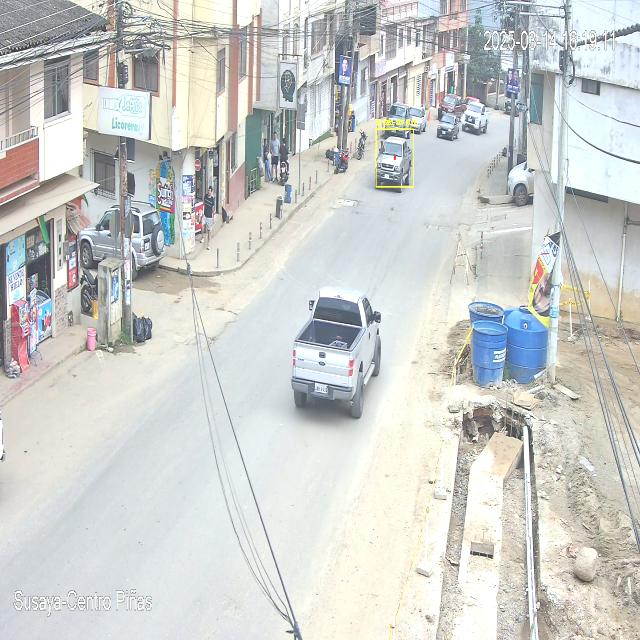CMT: (290, 287, 382, 420)
